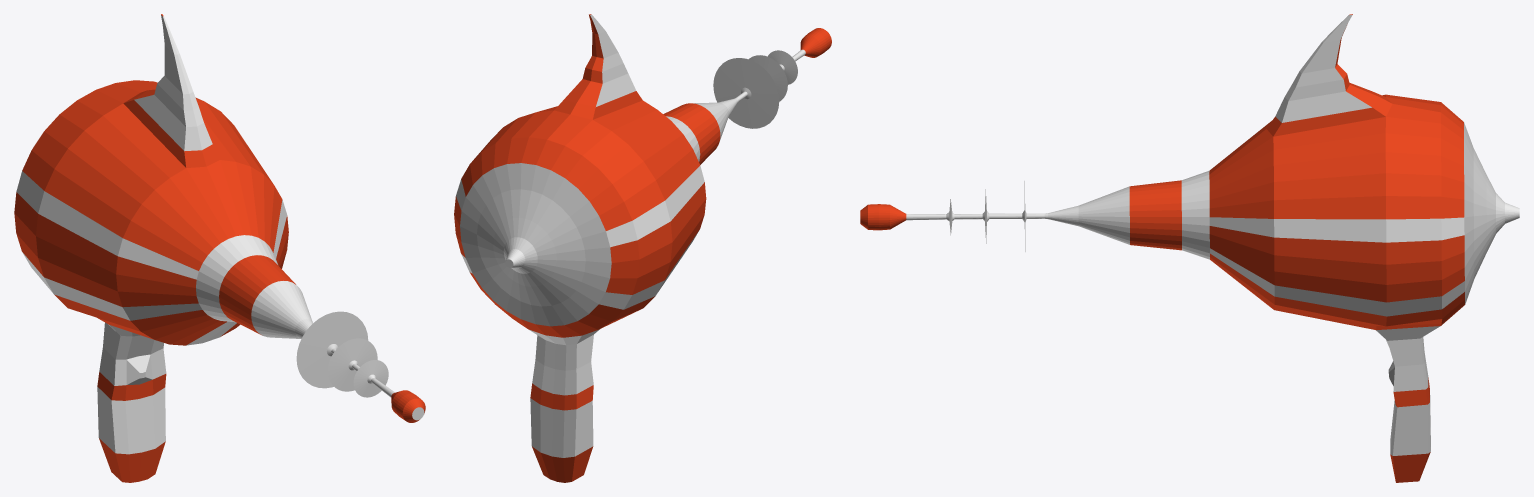
The model's file is RayGun.fbx.
3 renders of one model, left to right at view 1: azimuth 30°, elevation 25°; view 2: azimuth 150°, elevation 25°; view 3: azimuth 270°, elevation 25°, orthographic. The views are drawn at different scales.
Parts seen in each view (by area): view 1: Cylinder; view 2: Cylinder; view 3: Cylinder.
Part boxes in pixels (<box>): Cylinder: <box>14,14,425,482</box>; Cylinder: <box>454,14,831,482</box>; Cylinder: <box>860,14,1519,482</box>.
Bounding box in the file's own units: 59.7 × 128 × 164.
